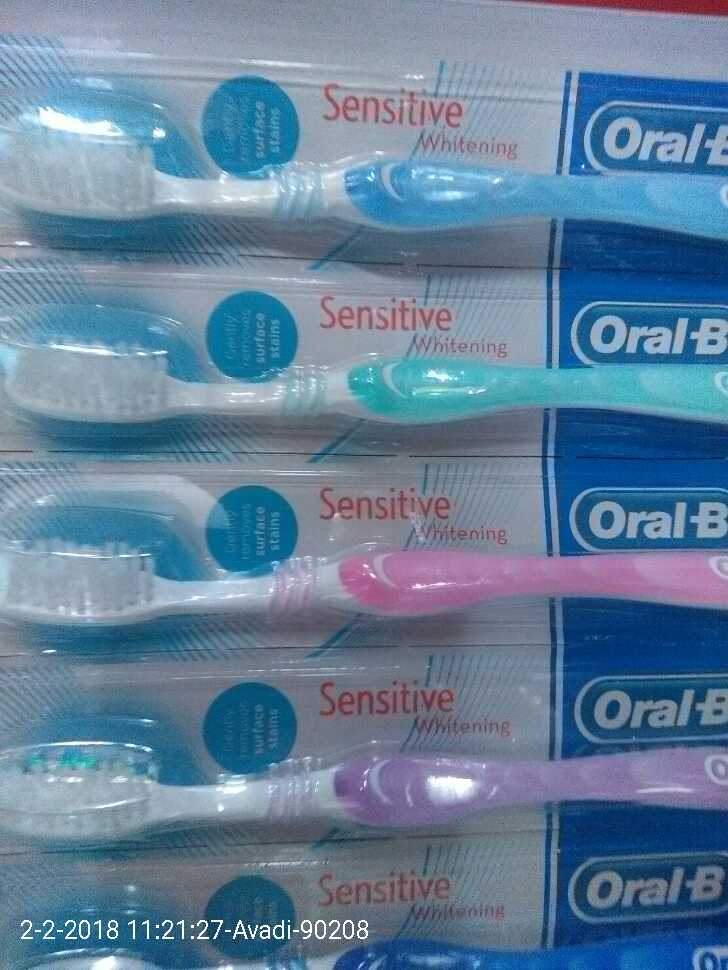pharmacy: (6, 107, 728, 256), (4, 723, 725, 841), (3, 318, 728, 434), (6, 526, 728, 621)
